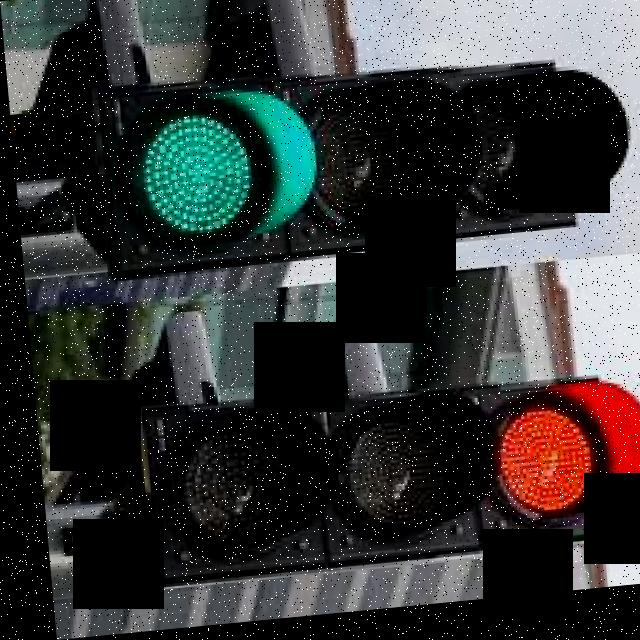green: (99, 58, 605, 265)
red: (124, 365, 640, 603)
